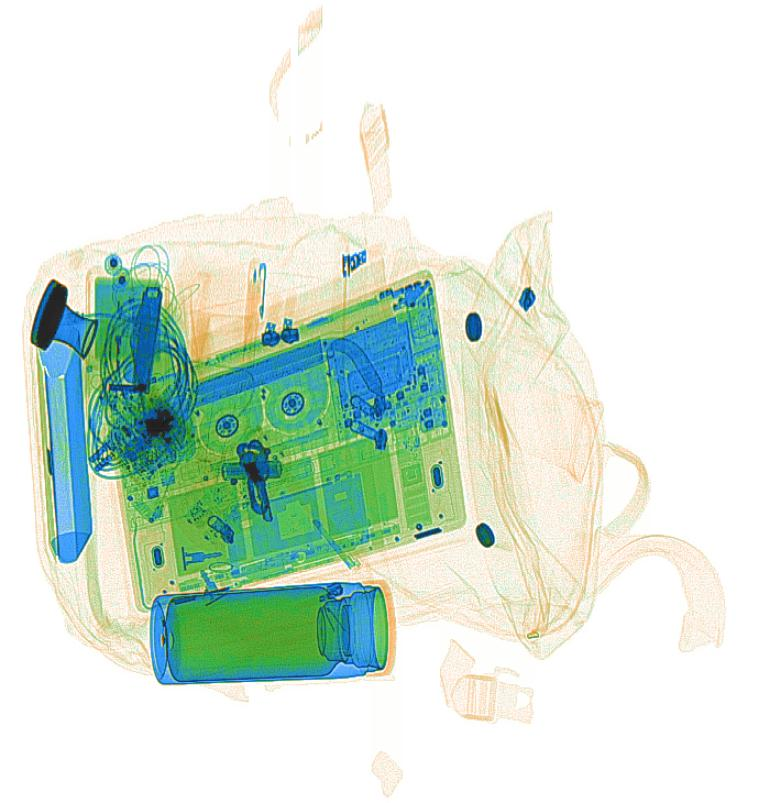battery: (220, 457, 283, 483)
knife: (129, 285, 164, 393)
seal: (29, 278, 112, 367)
